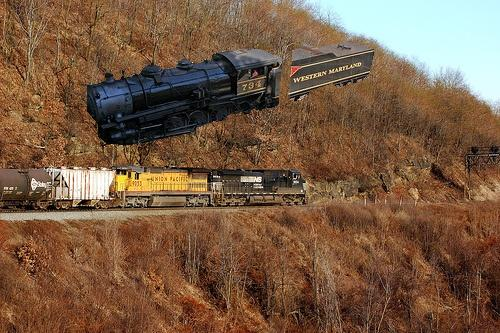tampered: (88, 42, 374, 145)
